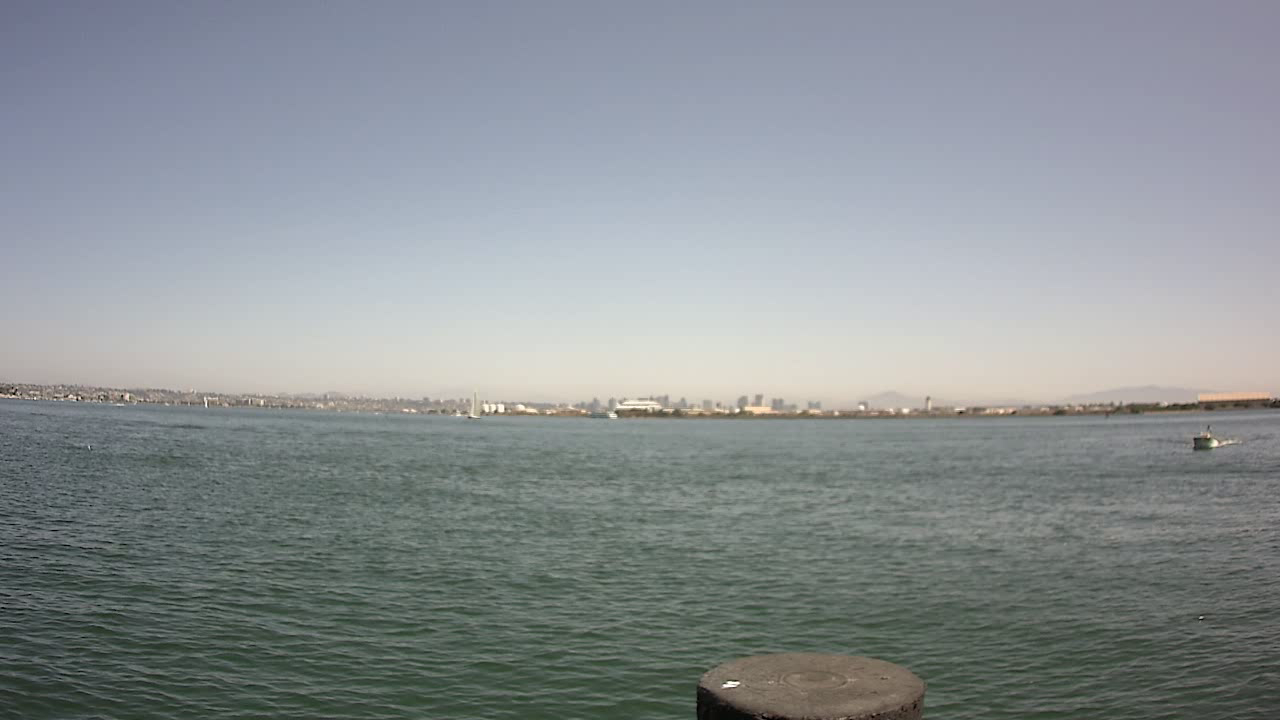target: (1182, 422, 1236, 457)
